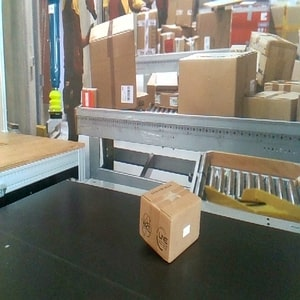box: (137, 181, 202, 265)
